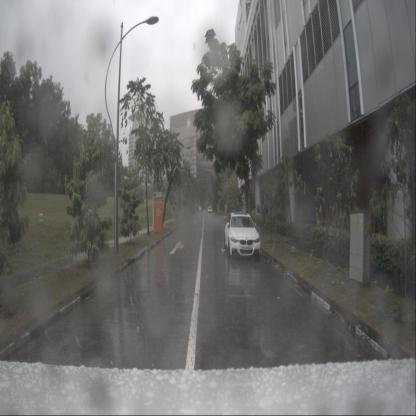vehicle-car: (224, 212, 261, 260), (208, 206, 212, 214)
